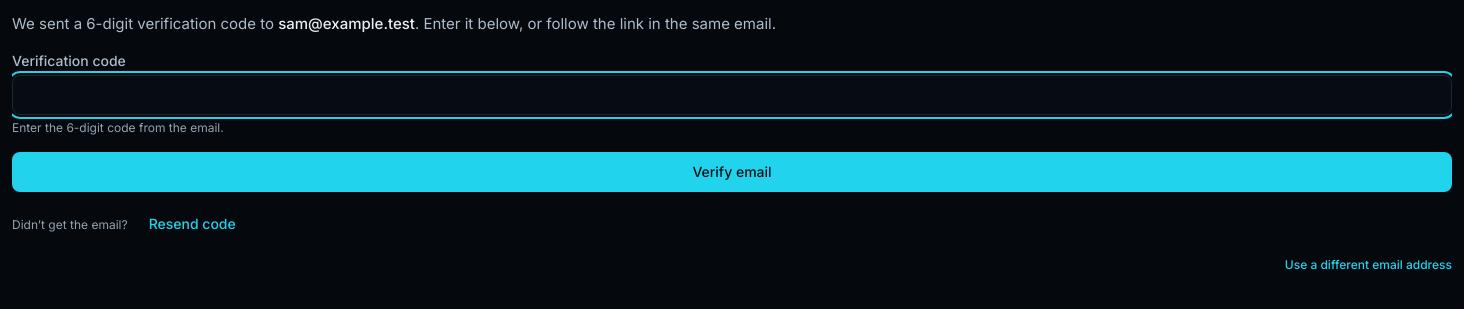
Test: code entry › names the rule rather than troubling the provider with a short code
The width and height of the screenshot is (1464, 309).
In the field labelled "Verification code": (732, 95) top-left (12, 75), bottom-right (1452, 115), type "123"
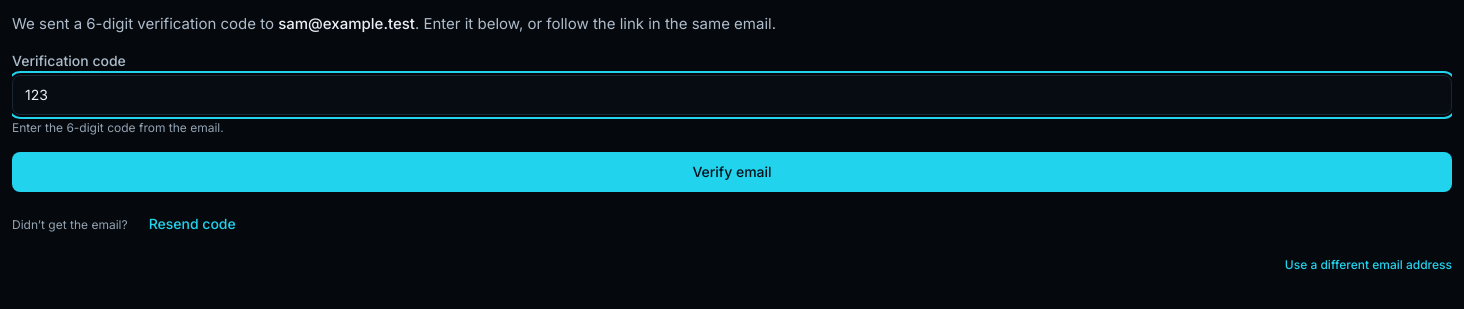
Click the button "Verify email": (732, 172) top-left (12, 152), bottom-right (1452, 192)
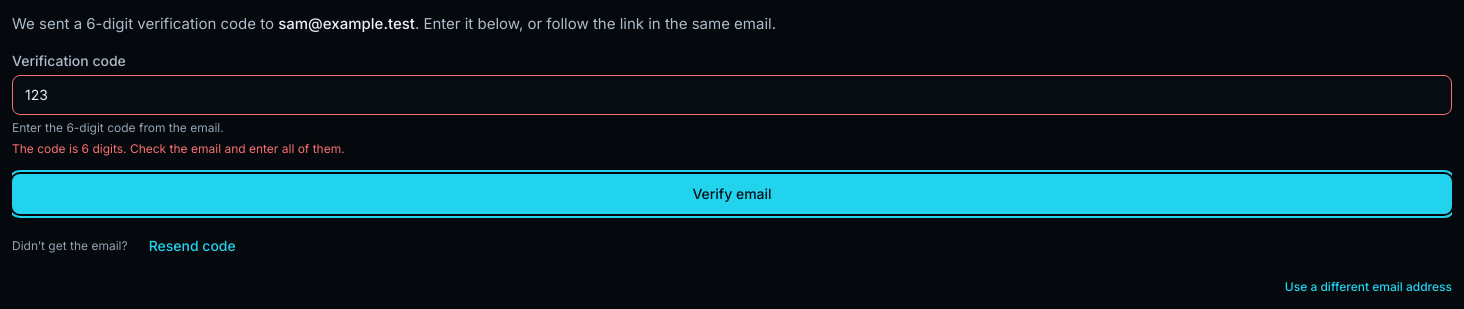
Check: the text "The code is 6 digits. Check the email and enter all of them." is shown, box top-left (12, 141), bottom-right (345, 156)
